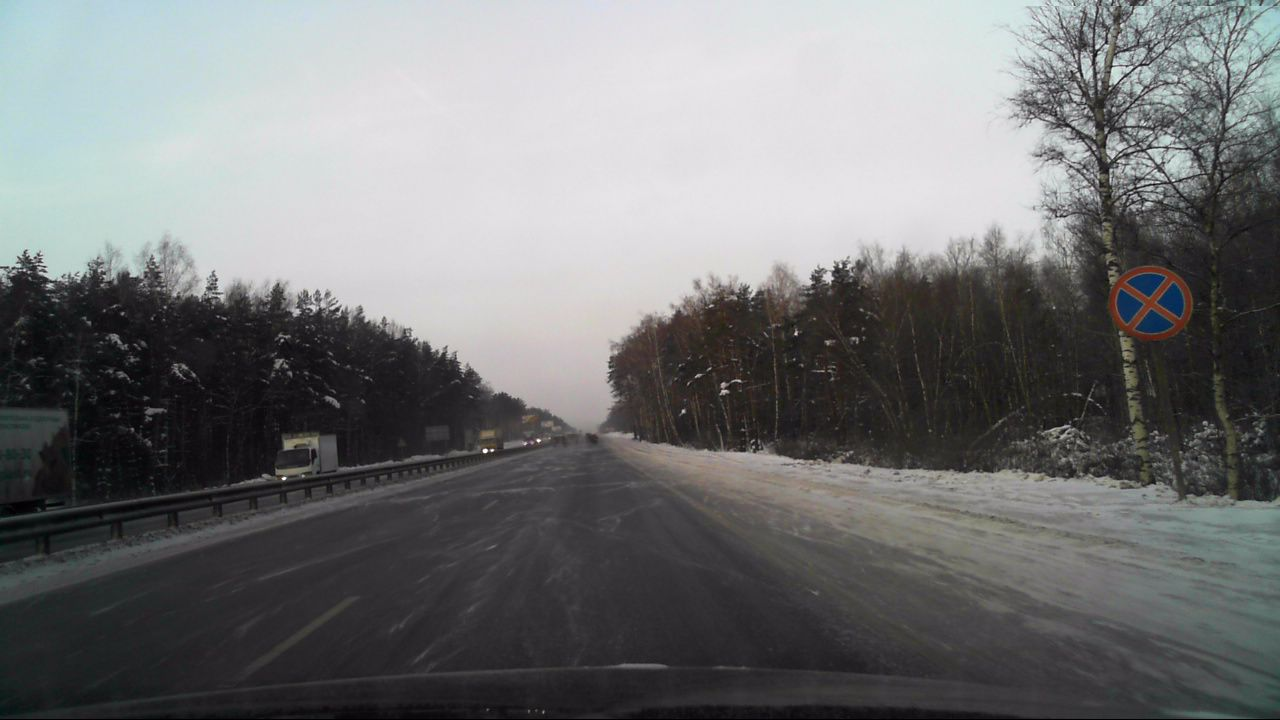No Parking: (1108, 262, 1193, 341)
